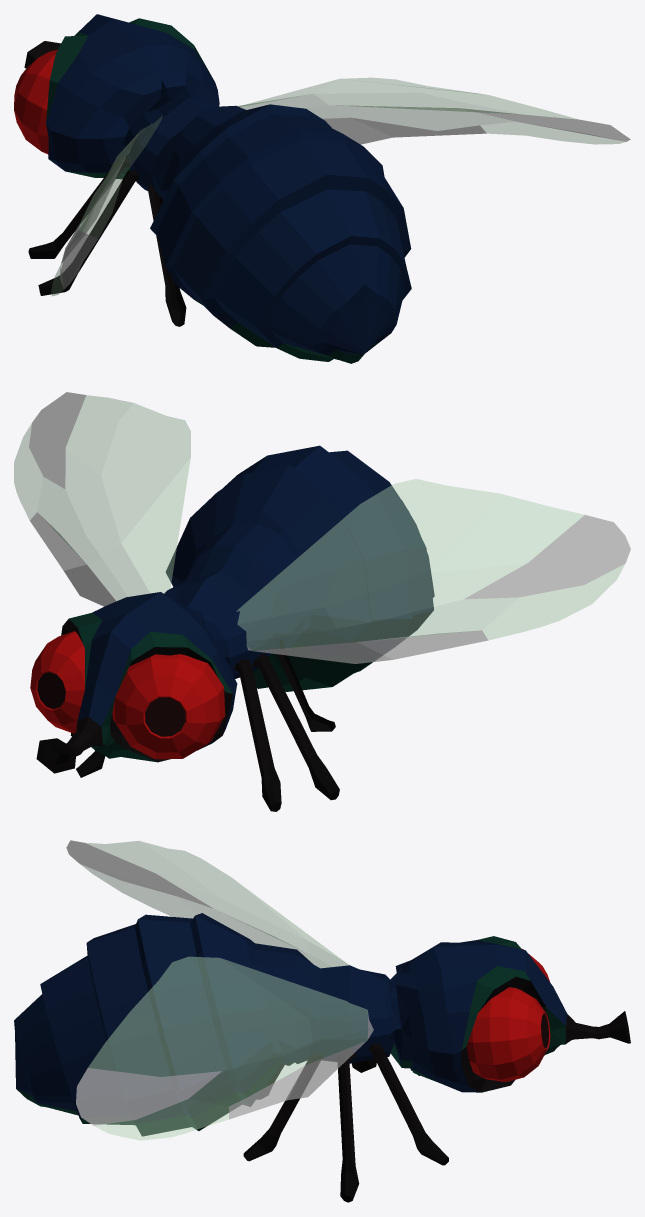
File: fly.obj
3 renders of one model, top to bottom at view 1: azimuth 30°, elevation 25°; view 2: azimuth 150°, elevation 25°; view 3: azimuth 270°, elevation 25°, orthographic. The views are drawn at different scales.
Visible parts, largest first — view 1: Sphere.001, BezierCurve_Mesh, BezierCurve.001_Mesh.001, Sphere.008, Sphere.006, Sphere.007, Sphere.005; view 2: Sphere.001, BezierCurve.001_Mesh.001, BezierCurve_Mesh, Sphere.008, Sphere.009, Sphere.007, Sphere.006, Sphere.005; view 3: Sphere.001, BezierCurve_Mesh, BezierCurve.001_Mesh.001, Sphere.009, Sphere.003, Sphere.000, Sphere.004.
Part boxes in pixels (bbox=[...]): Sphere.001: bbox=[24, 14, 411, 363]; BezierCurve_Mesh: bbox=[237, 78, 630, 144]; BezierCurve.001_Mesh.001: bbox=[51, 116, 162, 295]; Sphere.008: bbox=[14, 49, 57, 154]; Sphere.006: bbox=[38, 170, 138, 295]; Sphere.007: bbox=[28, 156, 130, 258]; Sphere.005: bbox=[147, 182, 186, 326]; Sphere.001: bbox=[36, 445, 434, 773]; BezierCurve.001_Mesh.001: bbox=[236, 479, 630, 663]; BezierCurve_Mesh: bbox=[14, 392, 190, 606]; Sphere.008: bbox=[112, 654, 225, 759]; Sphere.009: bbox=[30, 631, 84, 733]; Sphere.007: bbox=[234, 659, 281, 811]; Sphere.006: bbox=[252, 654, 339, 800]; Sphere.005: bbox=[274, 639, 335, 731]; Sphere.001: bbox=[14, 913, 630, 1136]; BezierCurve_Mesh: bbox=[76, 957, 373, 1140]; BezierCurve.001_Mesh.001: bbox=[66, 840, 349, 967]; Sphere.009: bbox=[466, 987, 550, 1081]; Sphere.003: bbox=[337, 1049, 359, 1202]; Sphere.000: bbox=[368, 1043, 448, 1165]; Sphere.004: bbox=[243, 1054, 324, 1161].
Size of the model in its own units: 11.85 by 4.95 by 11.63.
